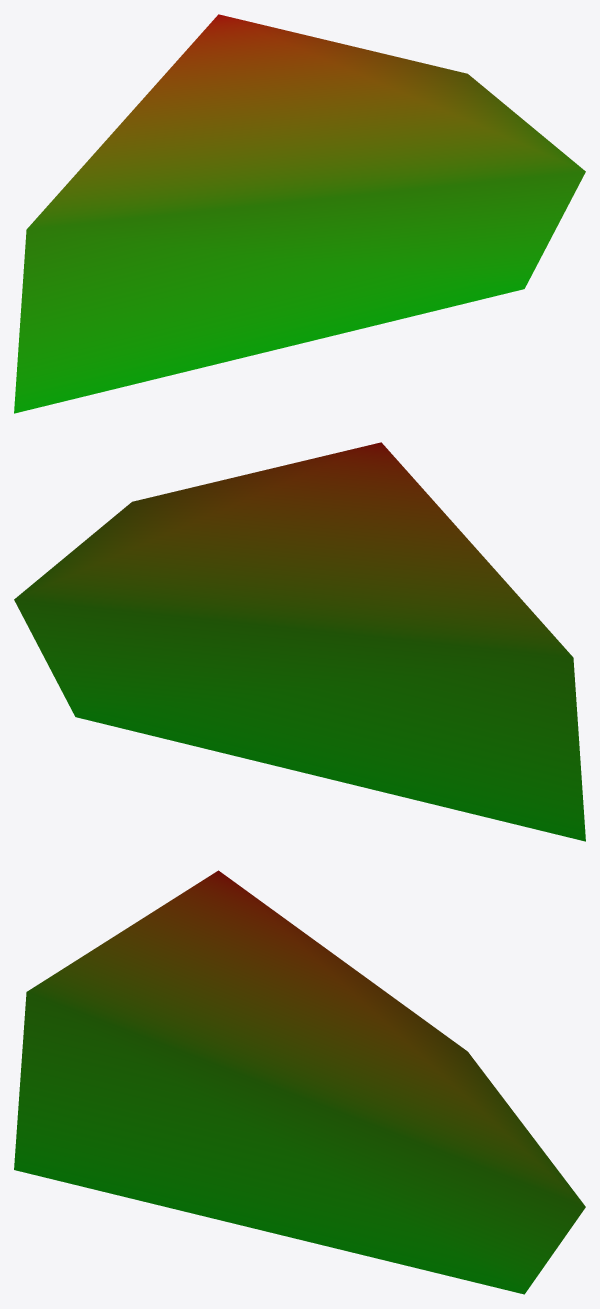
File: Fern_LOD3_Var6_rmAsg.fbx
The picture shows the model from 3 angles, top to bottom: view 1: azimuth 30°, elevation 25°; view 2: azimuth 150°, elevation 25°; view 3: azimuth 330°, elevation 25°; orthographic projection.
Visible parts, largest first — view 1: _627d_Var6_LOD3; view 2: _627d_Var6_LOD3; view 3: _627d_Var6_LOD3.
Part boxes in pixels (left/top/right/bottom): _627d_Var6_LOD3: left=14, top=14, right=585, bottom=413; _627d_Var6_LOD3: left=14, top=442, right=585, bottom=841; _627d_Var6_LOD3: left=14, top=870, right=585, bottom=1294.
Size of the model in its own units: 175 by 102 by 1.34e-05.
